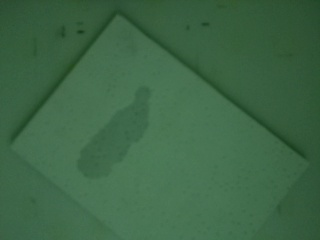Water_detected: (93, 103, 141, 160)
